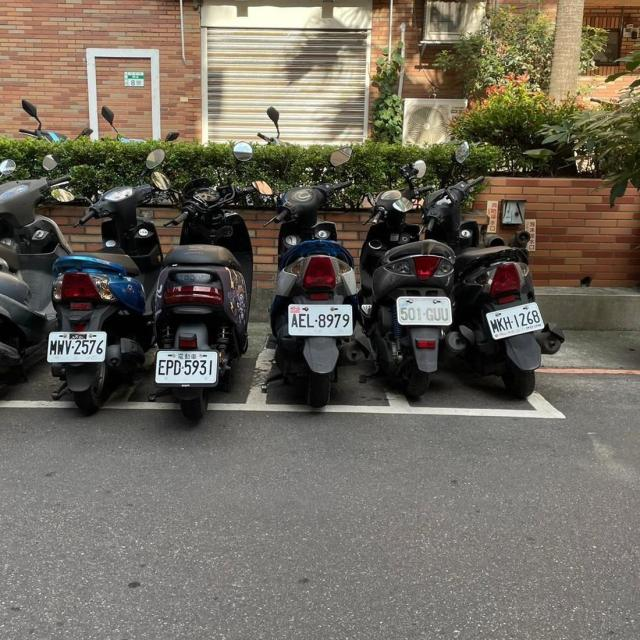W: (476, 301, 547, 341), (150, 347, 219, 388), (42, 328, 111, 367), (282, 301, 356, 337), (392, 292, 456, 326)
